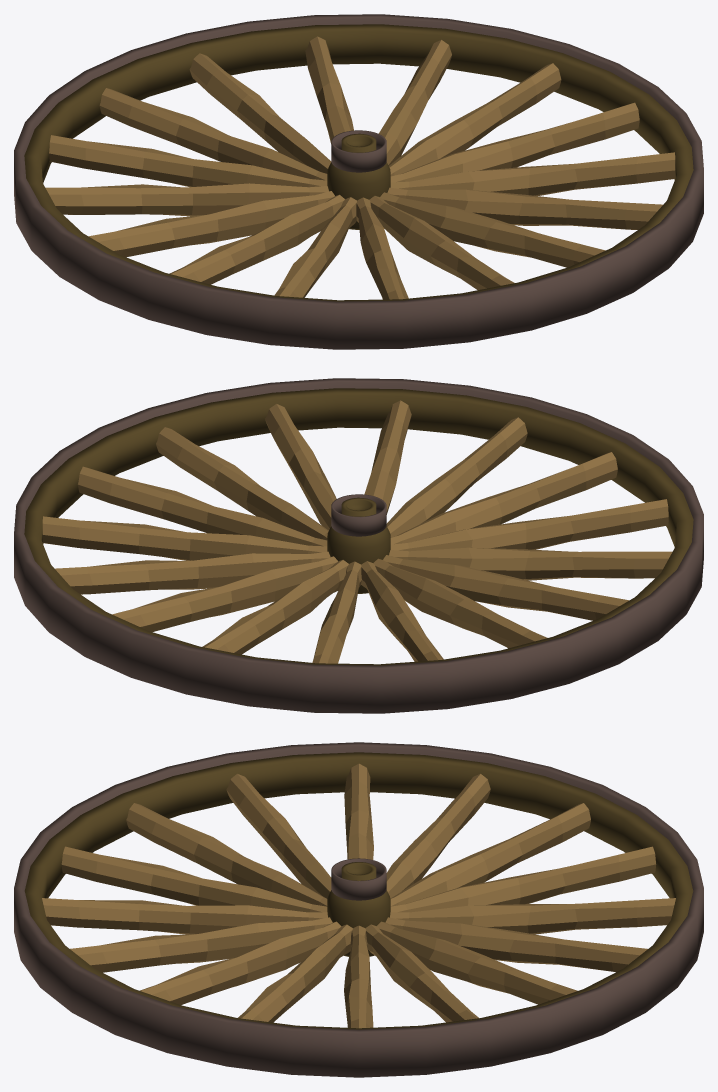
The model's file is barrel.glb.
3 renders of one model, top to bottom at view 1: azimuth 30°, elevation 25°; view 2: azimuth 150°, elevation 25°; view 3: azimuth 270°, elevation 25°, orthographic.
Parts seen in each view (by area): view 1: Cylinder.011; view 2: Cylinder.011; view 3: Cylinder.011.
Boxes of the visible parts, bbox=[...] form: Cylinder.011: bbox=[14, 14, 703, 349]; Cylinder.011: bbox=[14, 378, 703, 713]; Cylinder.011: bbox=[14, 742, 703, 1077].
Size of the model in its own units: 21.89 by 2.72 by 21.89.
